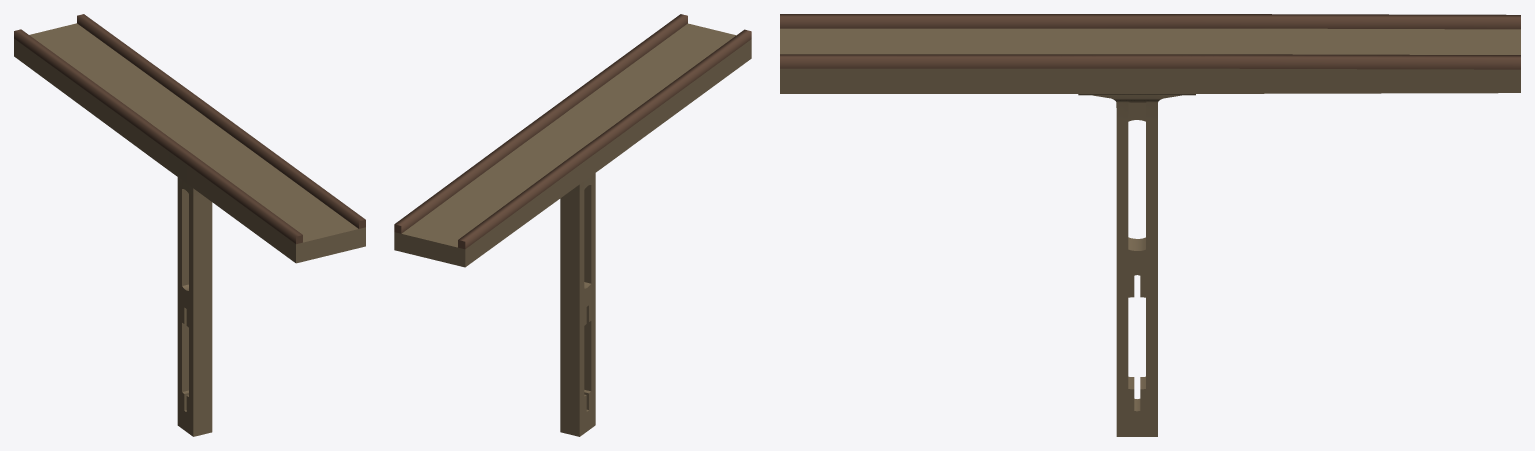
The model's file is Bridge.fbx.
The picture shows the model from 3 angles, left to right: view 1: azimuth 30°, elevation 25°; view 2: azimuth 150°, elevation 25°; view 3: azimuth 270°, elevation 25°; orthographic projection. The views are drawn at different scales.
Parts seen in each view (by area): view 1: Bridge1; view 2: Bridge1; view 3: Bridge1.
Boxes of the visible parts, x1=… form: Bridge1: x1=14, y1=14, x2=365, y2=436; Bridge1: x1=394, y1=14, x2=751, y2=436; Bridge1: x1=780, y1=14, x2=1520, y2=436.
Bounding box in the file's own units: 6.7 × 27.51 × 46.82.
